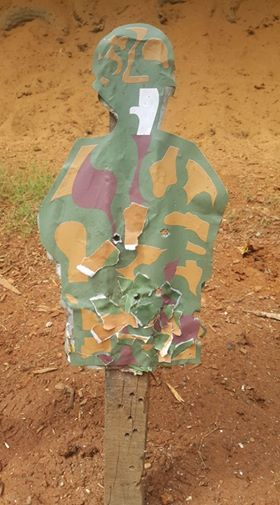Bullet: (113, 234, 121, 244), (161, 228, 169, 238), (192, 311, 200, 321), (134, 293, 141, 302)
